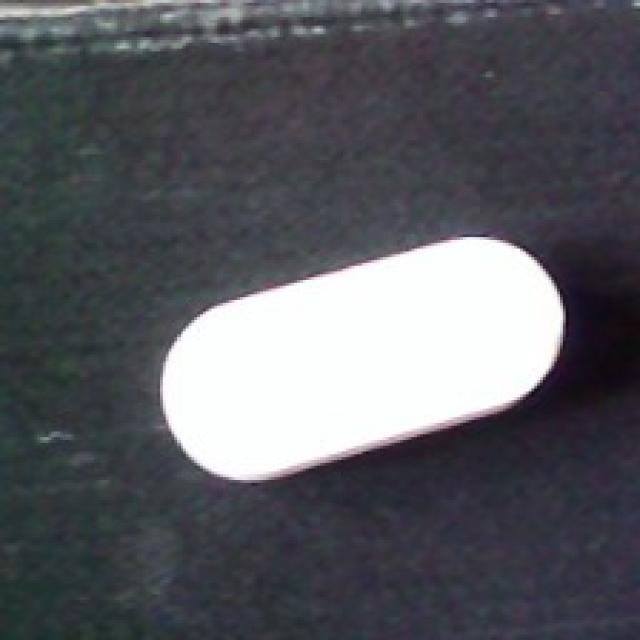no-defect: (154, 231, 566, 483)
